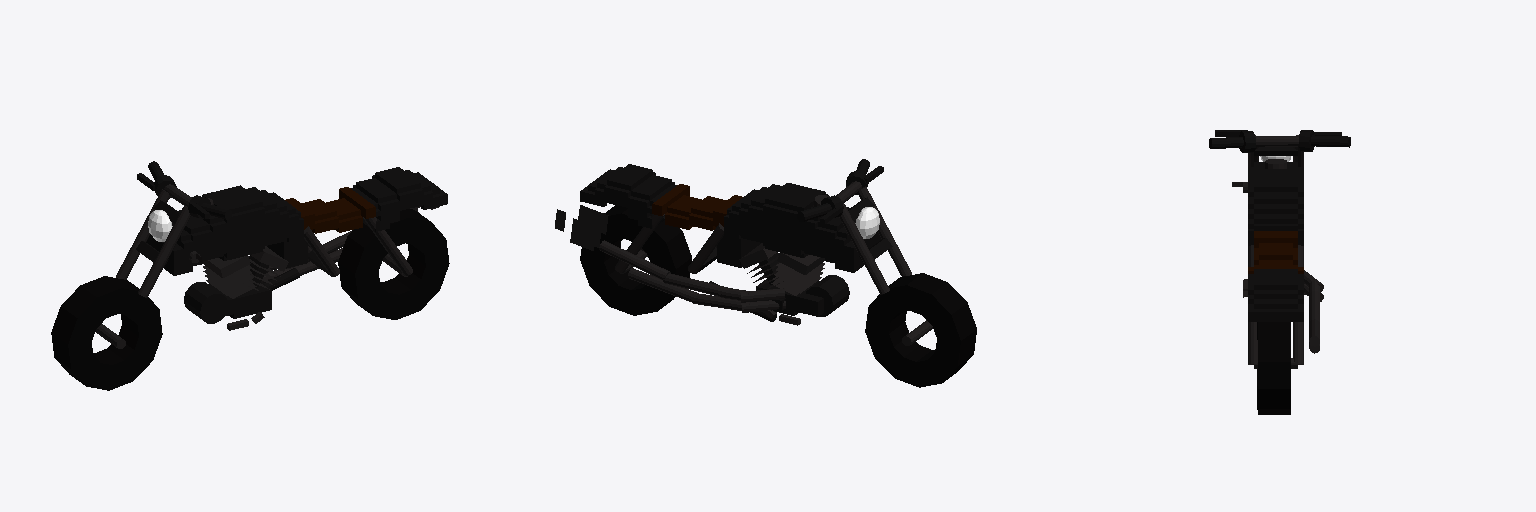
The picture shows the model from 3 angles: view 1: azimuth 30°, elevation 25°; view 2: azimuth 150°, elevation 25°; view 3: azimuth 270°, elevation 25°; orthographic projection.
Visible parts, largest first — view 1: Object_265, Object_267, Object_91, Object_15, Object_229, Object_149, Object_207, Object_7, Object_173, Object_233, Object_45, Object_179 (+6 smaller); view 2: Object_265, Object_267, Object_91, Object_149, Object_7, Object_229, Object_233, Object_215, Object_15, Object_173, Object_217, Object_221 (+9 smaller); view 3: Object_267, Object_149, Object_173, Object_121, Object_71, Object_73, Object_151.
Part boxes in pixels (left/top/right/bottom): Object_265: left=51, top=276, right=162, bottom=390; Object_267: left=338, top=209, right=449, bottom=319; Object_91: left=224, top=207, right=264, bottom=257; Object_15: left=138, top=205, right=190, bottom=297; Object_229: left=184, top=282, right=228, bottom=323; Object_149: left=202, top=185, right=262, bottom=213; Object_207: left=229, top=282, right=271, bottom=318; Object_7: left=116, top=189, right=169, bottom=279; Object_173: left=375, top=167, right=420, bottom=193; Object_233: left=267, top=240, right=307, bottom=268; Object_45: left=363, top=217, right=412, bottom=275; Object_179: left=356, top=178, right=396, bottom=203; Object_265: left=865, top=273, right=976, bottom=387; Object_267: left=580, top=205, right=691, bottom=315; Object_91: left=763, top=194, right=828, bottom=254; Object_149: left=765, top=183, right=825, bottom=211; Object_7: left=839, top=202, right=889, bottom=294; Object_229: left=806, top=275, right=849, bottom=316; Object_233: left=717, top=236, right=760, bottom=267; Object_215: left=599, top=240, right=670, bottom=279; Object_15: left=857, top=186, right=911, bottom=276; Object_173: left=607, top=164, right=652, bottom=190; Object_217: left=628, top=268, right=698, bottom=301; Object_221: left=663, top=273, right=731, bottom=299; Object_267: left=1257, top=322, right=1290, bottom=414; Object_149: left=1254, top=169, right=1297, bottom=191; Object_173: left=1254, top=273, right=1297, bottom=289; Object_121: left=1248, top=309, right=1303, bottom=321; Object_71: left=1259, top=243, right=1292, bottom=259; Object_73: left=1254, top=231, right=1297, bottom=247; Object_151: left=1254, top=192, right=1297, bottom=203.
Size of the model in its own units: 5.18 by 2.21 by 1.61.
Materials: 6 (5 with a texture image).